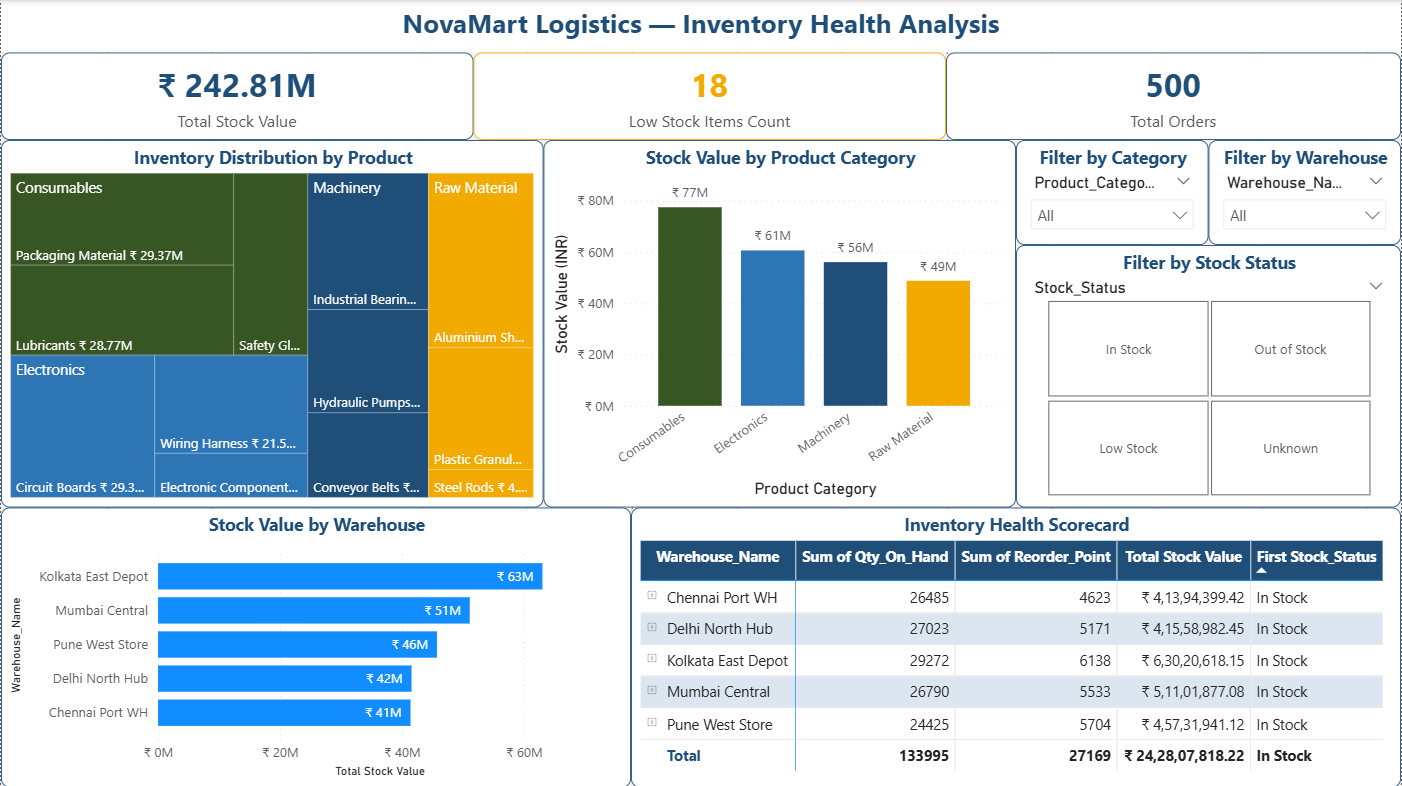

The dashboard page shown, as its layout file describes it:
{"tool":"powerbi","page":{"name":"Inventory Health","canvas":[1280,720],"ordinal":3},"visuals":[{"type":"textbox","box":[0,0,1280,48],"z":0},{"type":"card","fields":{"Values":["_Measures.Total Stock Value"]},"box":[0,48,432,80],"z":1000},{"type":"card","fields":{"Values":["_Measures.Low Stock Items Count"]},"box":[432,48,432,80],"z":2000},{"type":"card","fields":{"Values":["_Measures.Total Orders"]},"box":[864,48,416,80],"z":3000},{"type":"clusteredBarChart","title":"Stock Value by Warehouse","fields":{"Category":["Inventory.Warehouse_Name"],"Y":["_Measures.Total Stock Value"]},"box":[0,464,576,256],"z":4000},{"type":"clusteredColumnChart","title":"Stock Value by Product Category","fields":{"Category":["Inventory.Product_Category"],"Y":["_Measures.Total Stock Value"]},"box":[496,128,432,336],"z":5000},{"type":"treemap","title":"Inventory Distribution by Product","fields":{"Group":["Inventory.Product_Category"],"Details":["Inventory.Product_Name"],"Values":["_Measures.Total Stock Value"]},"box":[0,128,496,336],"z":6000},{"type":"pivotTable","title":"Inventory Health Scorecard","fields":{"Rows":["Inventory.Warehouse_Name","Inventory.Product_Name"],"Values":["Sum(Inventory.Qty_On_Hand)","Sum(Inventory.Reorder_Point)","_Measures.Total Stock Value","Min(Inventory.Stock_Status)"]},"box":[576,464,704,256],"z":7000},{"type":"slicer","title":"Filter by Warehouse","fields":{"Values":["Inventory.Warehouse_Name"]},"box":[1104,128,176,96],"z":8000},{"type":"slicer","title":"Filter by Category","fields":{"Values":["Inventory.Product_Category"]},"box":[928,128,176,96],"z":9000},{"type":"slicer","title":"Filter by Stock Status","fields":{"Values":["Inventory.Stock_Status"]},"box":[928,224,352,240],"z":10000}]}

Visuals, with their boxes in screenshot pixels (x1, y1, x2, y2), scaled from the page's 1280x720 canvas onto the 1402x786 screenshot:
textbox: select_region(0, 0, 1401, 52)
card - _Measures.Total Stock Value: select_region(0, 52, 473, 140)
card - _Measures.Low Stock Items Count: select_region(473, 52, 946, 140)
card - _Measures.Total Orders: select_region(946, 52, 1401, 140)
"Stock Value by Warehouse" clusteredBarChart: select_region(0, 507, 631, 785)
"Stock Value by Product Category" clusteredColumnChart: select_region(543, 140, 1016, 507)
"Inventory Distribution by Product" treemap: select_region(0, 140, 543, 507)
"Inventory Health Scorecard" pivotTable: select_region(631, 507, 1401, 785)
"Filter by Warehouse" slicer: select_region(1209, 140, 1401, 245)
"Filter by Category" slicer: select_region(1016, 140, 1209, 245)
"Filter by Stock Status" slicer: select_region(1016, 245, 1401, 507)
